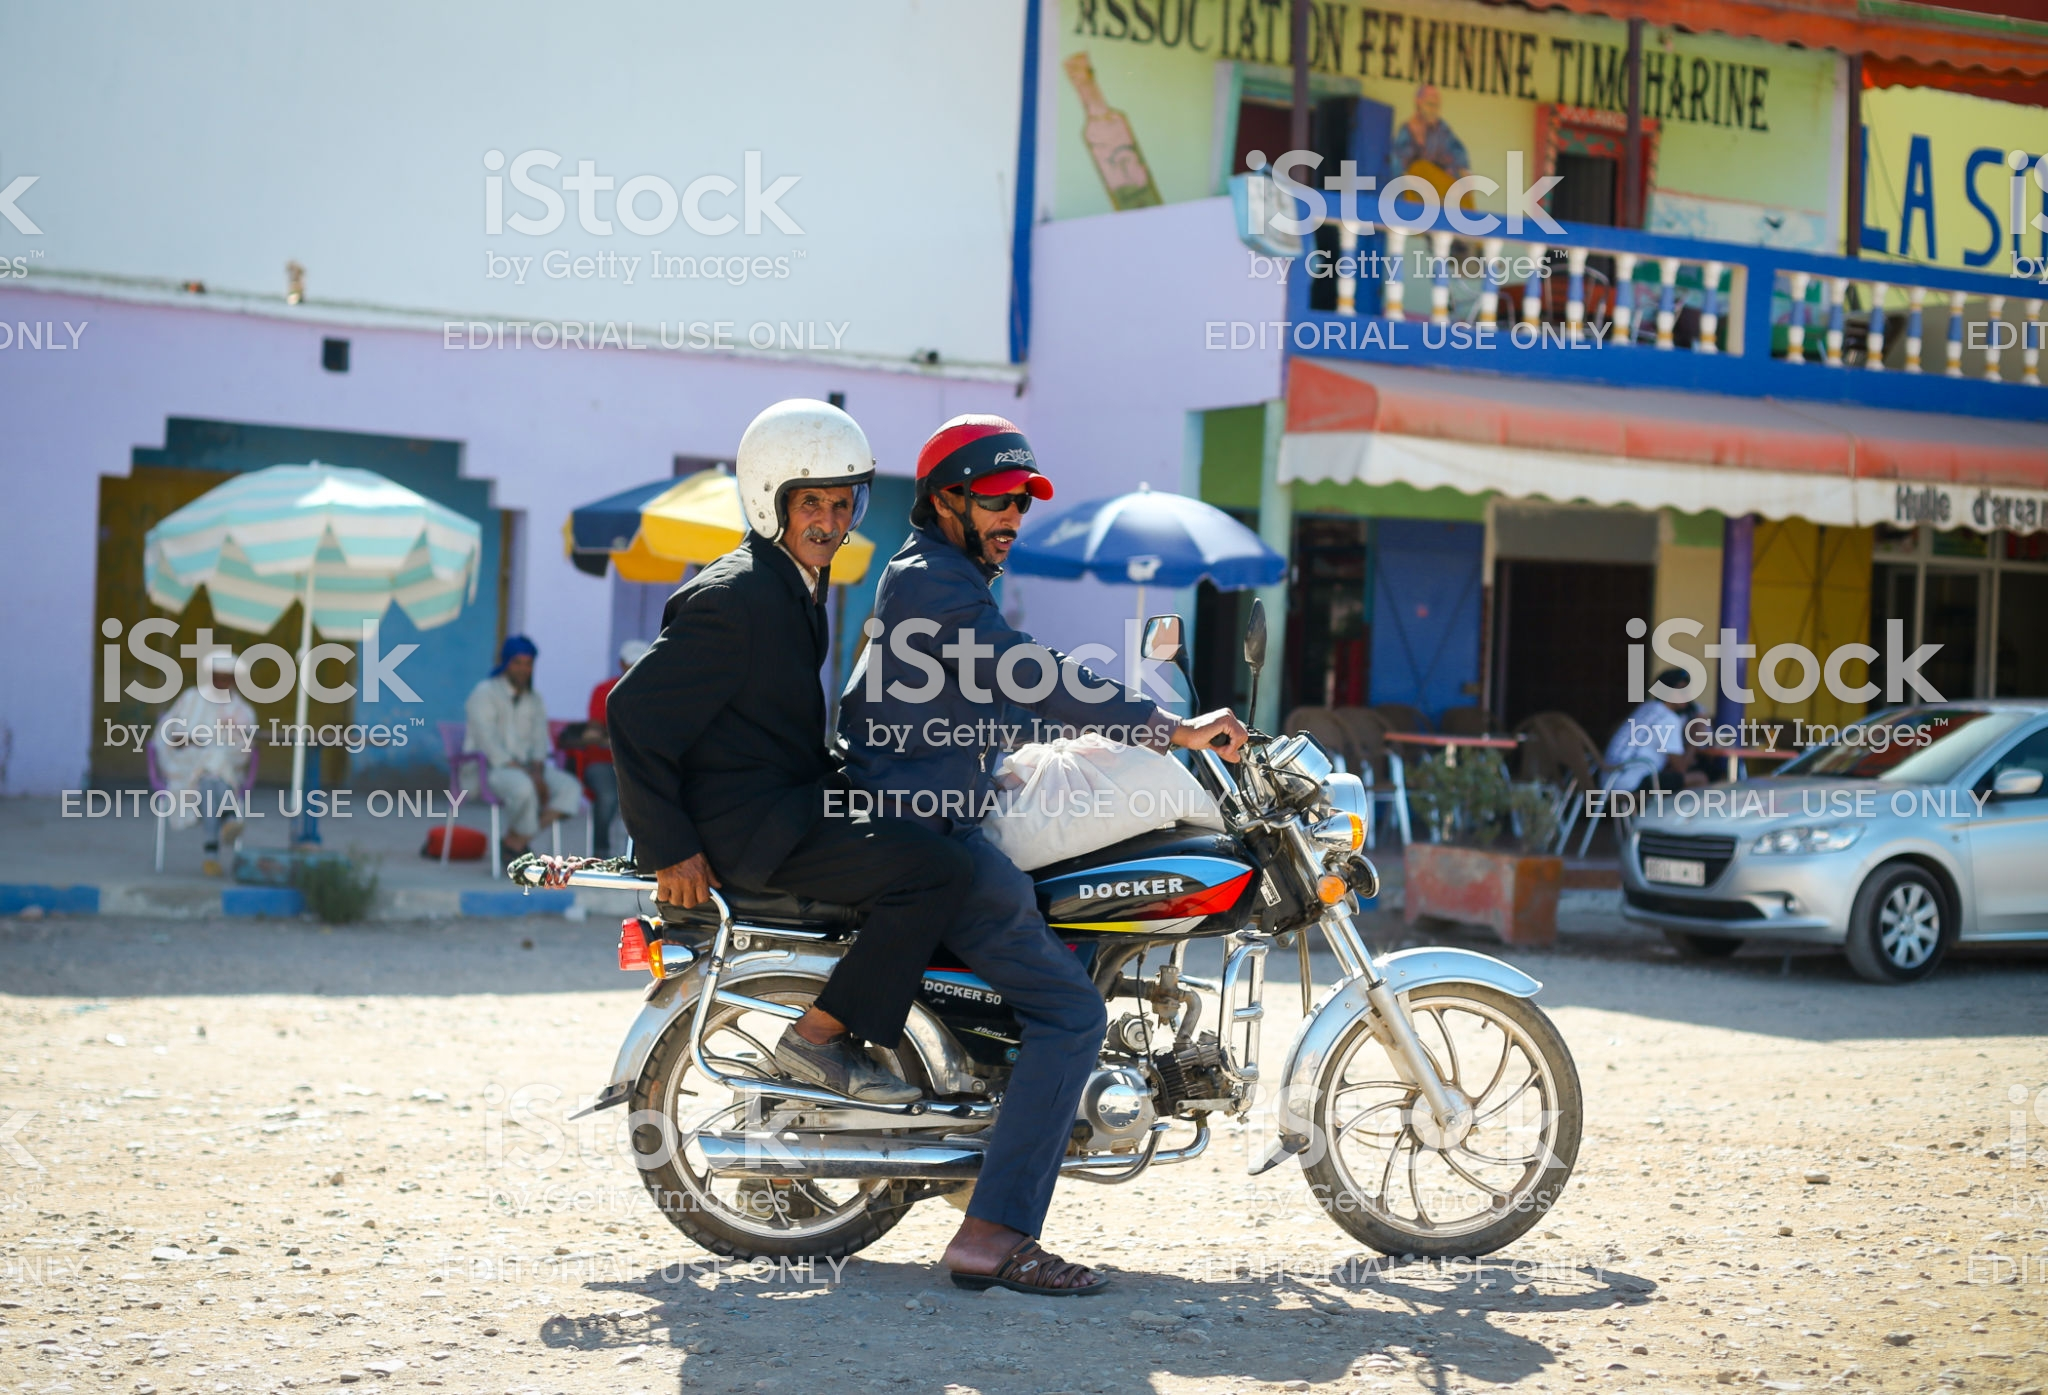helmet: (714, 392, 910, 529), (921, 394, 1050, 501)
